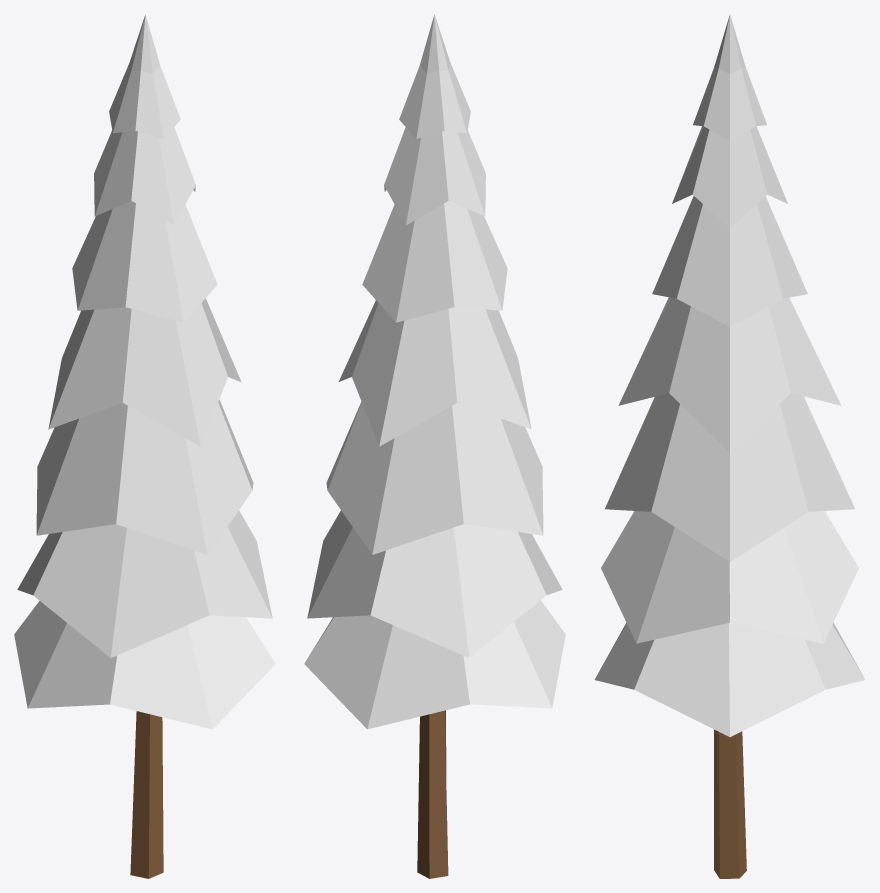
File: Pine_Tree_OneSided_l_Snow_03.fbx
The picture shows the model from 3 angles, left to right: view 1: azimuth 30°, elevation 25°; view 2: azimuth 150°, elevation 25°; view 3: azimuth 270°, elevation 25°; orthographic projection.
Parts seen in each view (by area): view 1: Pine_Tree_OneSided_l_Snow_03; view 2: Pine_Tree_OneSided_l_Snow_03; view 3: Pine_Tree_OneSided_l_Snow_03.
Part boxes in pixels (<box>): Pine_Tree_OneSided_l_Snow_03: <box>14,14,275,878</box>; Pine_Tree_OneSided_l_Snow_03: <box>304,14,565,878</box>; Pine_Tree_OneSided_l_Snow_03: <box>594,15,865,878</box>.
Size of the model in its own units: 558 by 1950 by 558.
